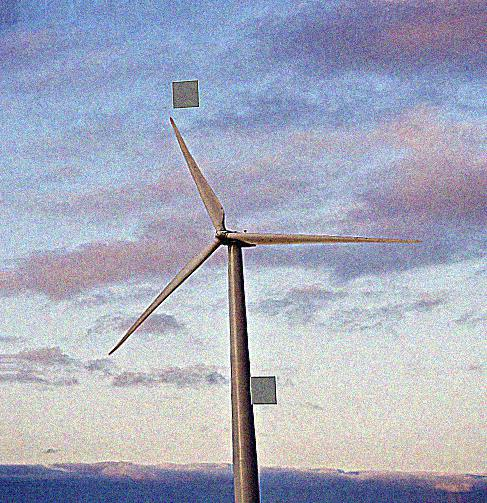wind turbine: (107, 117, 422, 497)
